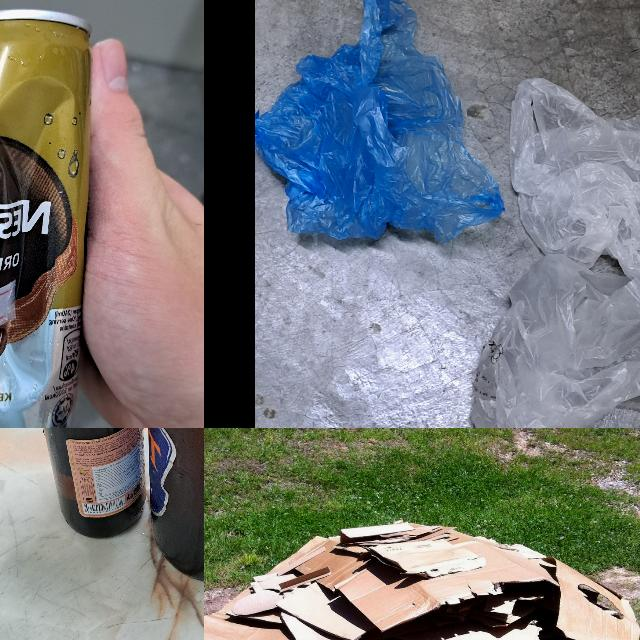garrafa de vidro: (29, 428, 145, 541)
lata: (0, 10, 94, 428)
papelão: (204, 519, 638, 640)
sacola plástica: (255, 0, 502, 247), (447, 253, 640, 428), (511, 65, 640, 292)
